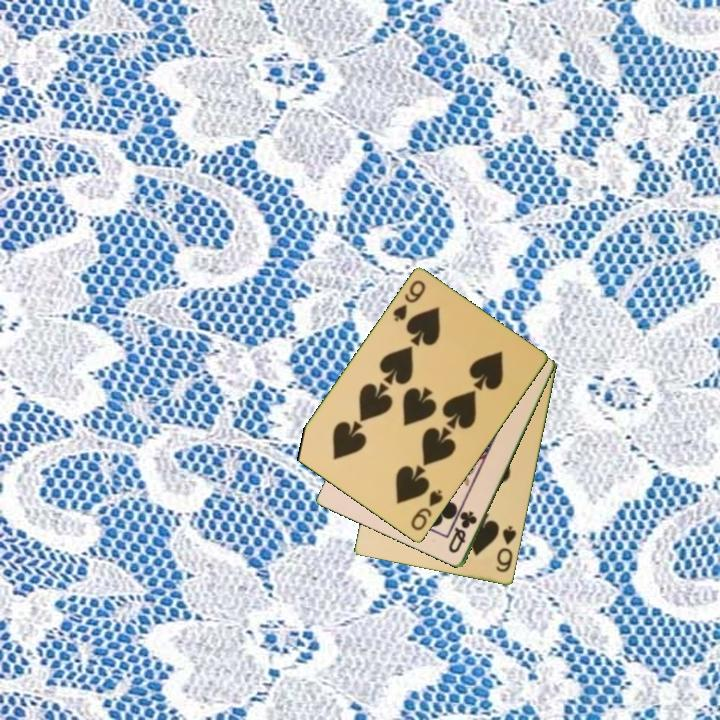6s: (493, 523, 520, 576)
9s: (389, 277, 429, 325), (407, 486, 446, 534)
Qc: (445, 507, 480, 556)
